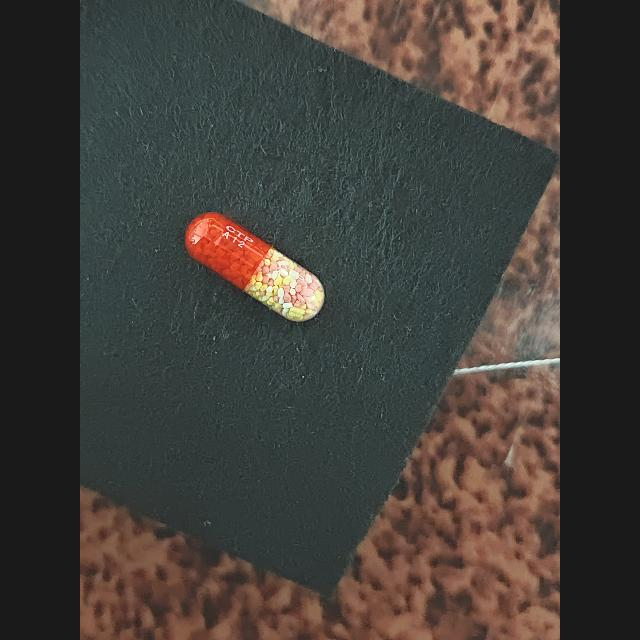Intact Capsule: (185, 212, 325, 322)
